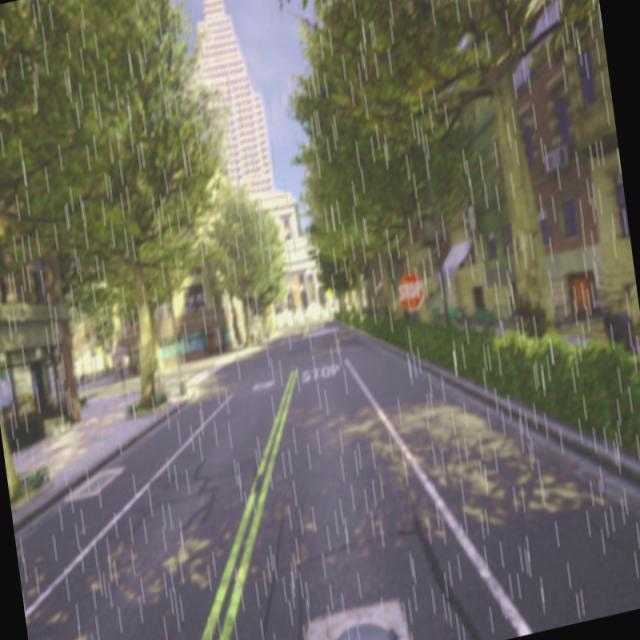stop sign: (395, 266, 427, 314)
